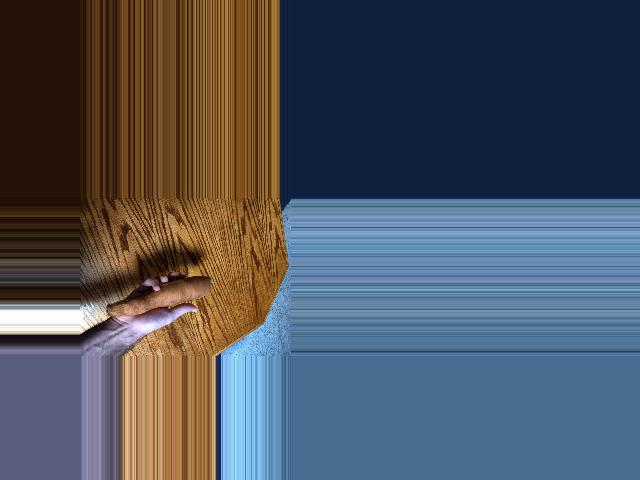sweet_potato: (95, 272, 212, 316)
